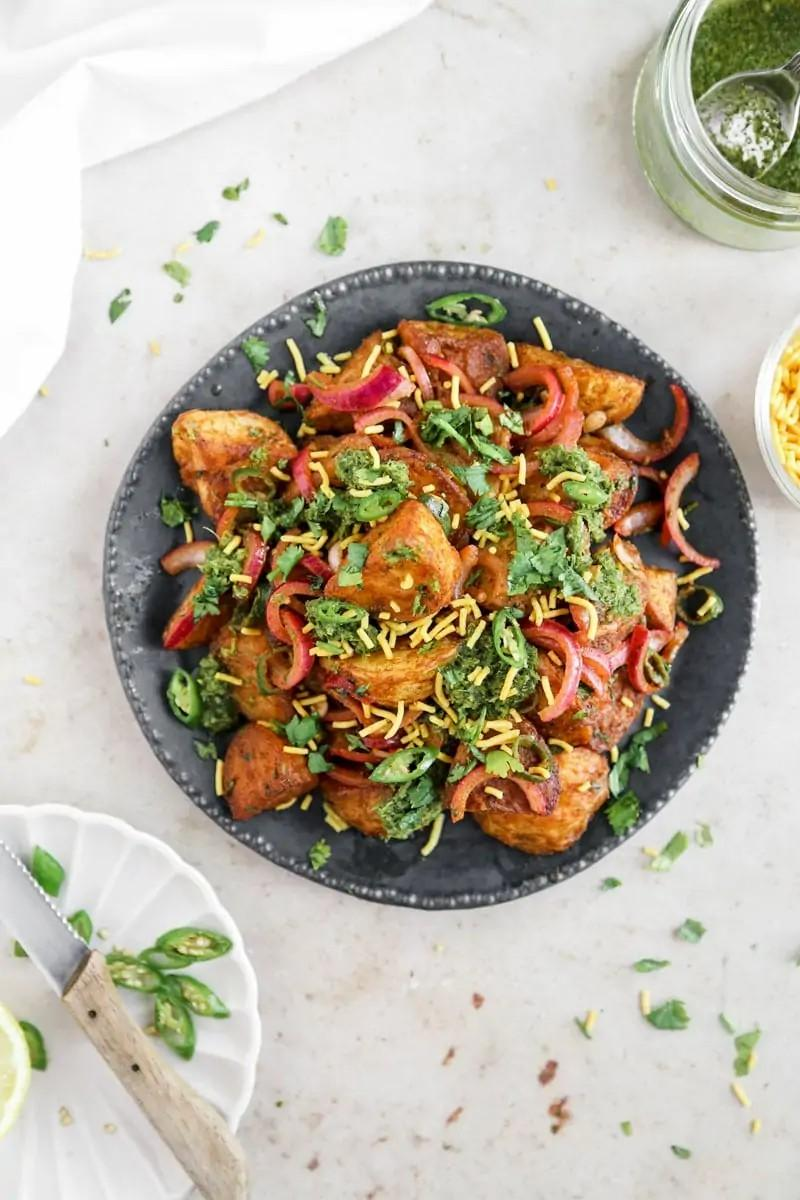AlooMasala: (158, 312, 689, 857)
